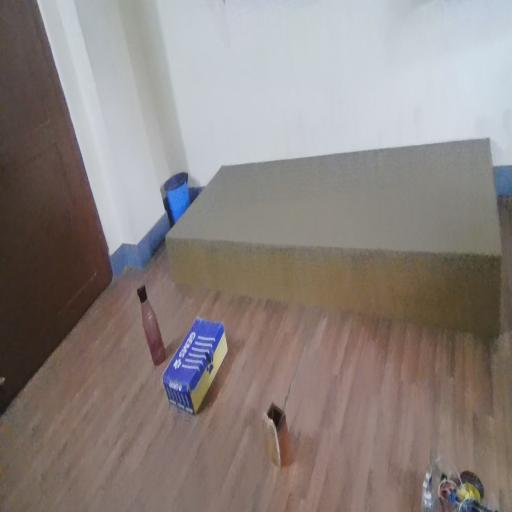Bottle: (131, 275, 166, 365)
